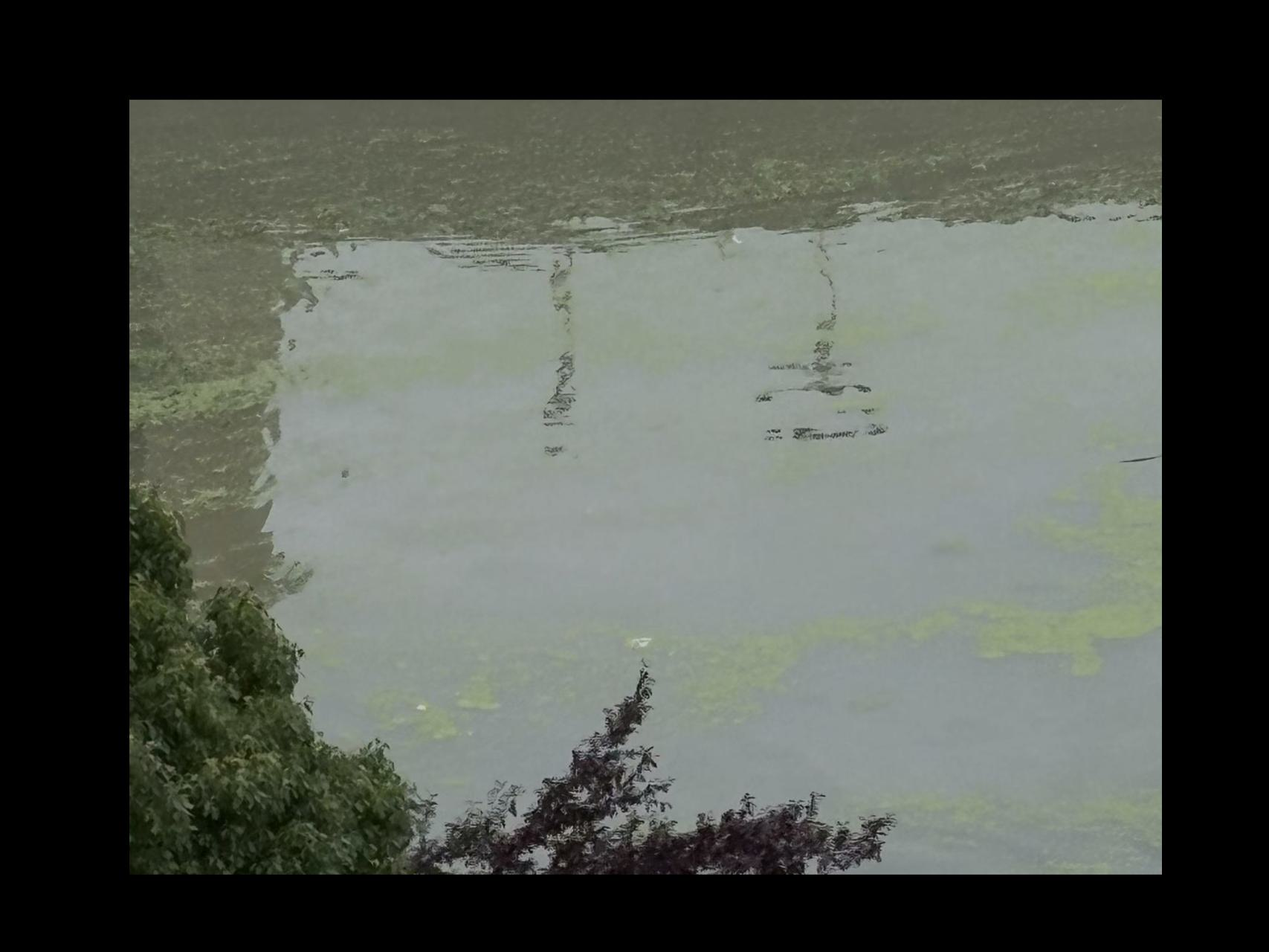Other: (974, 588, 1154, 649), (778, 608, 947, 651), (1023, 264, 1153, 315), (695, 640, 769, 711), (1096, 497, 1156, 584), (1027, 794, 1158, 830), (893, 794, 989, 832)
Plastic wastes: (629, 634, 653, 649)
